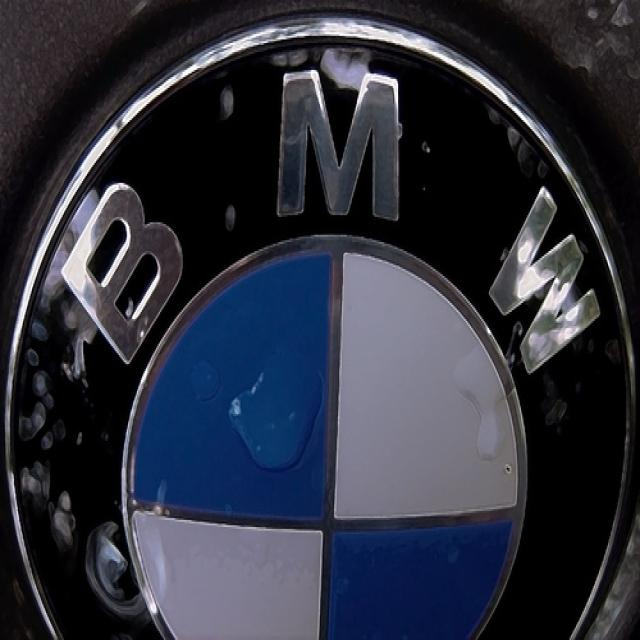bmw: (2, 8, 640, 639)
